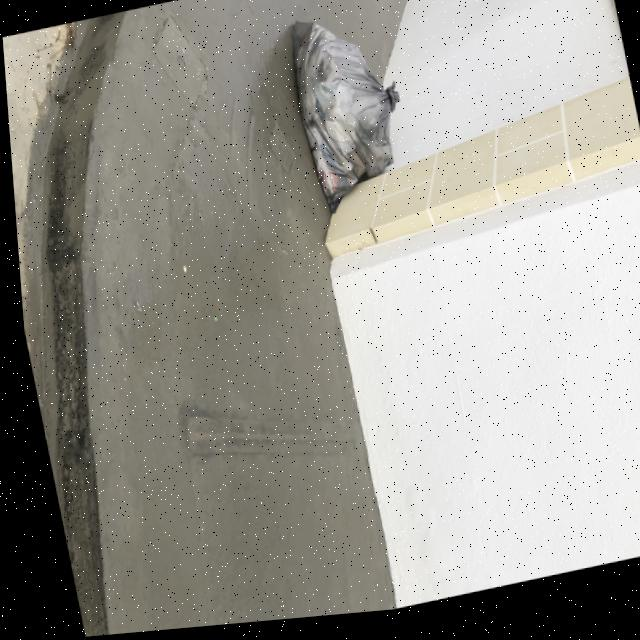Other: (281, 9, 416, 222)
